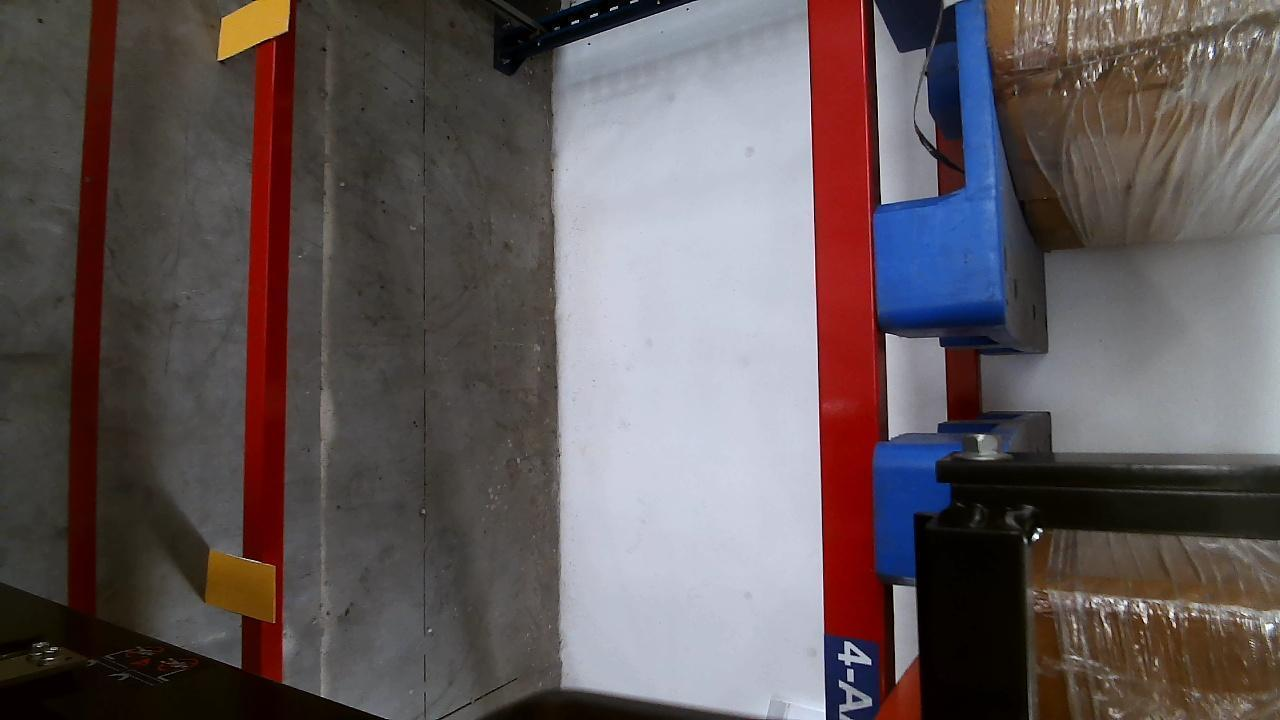red_line: (71, 2, 118, 613)
